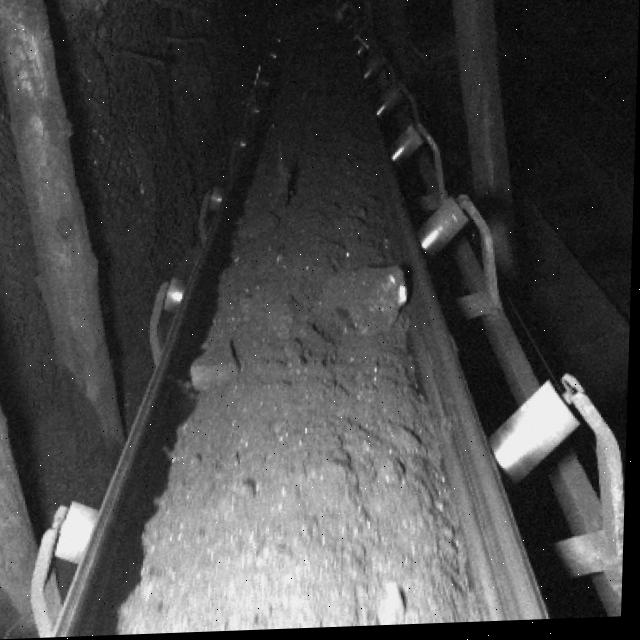large_sized_coal: (321, 271, 411, 342), (191, 342, 246, 394)
